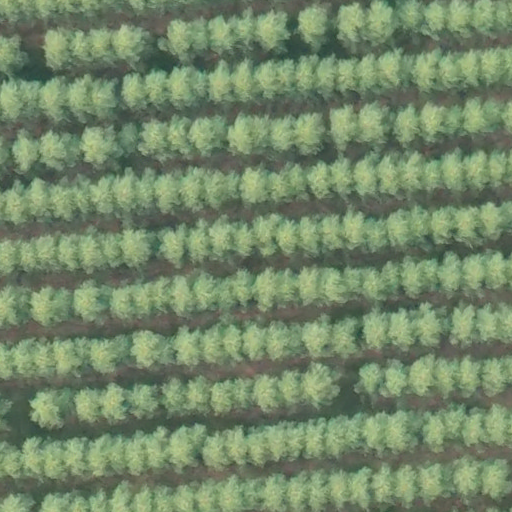eucalipto: (30, 383, 77, 434), (132, 324, 175, 378), (81, 123, 123, 169), (51, 332, 92, 379), (303, 360, 342, 409), (28, 282, 70, 327), (73, 277, 109, 327), (201, 164, 239, 211), (111, 21, 150, 66), (38, 128, 79, 170), (189, 112, 226, 158), (297, 1, 332, 48), (336, 1, 371, 48), (169, 427, 206, 471), (359, 99, 392, 148), (385, 409, 420, 455), (326, 101, 358, 151), (91, 333, 128, 376), (256, 9, 291, 54), (116, 68, 150, 114), (8, 123, 39, 173), (301, 315, 336, 359), (48, 175, 80, 223), (128, 379, 162, 423), (401, 253, 431, 302), (332, 316, 367, 358), (158, 224, 190, 269), (72, 383, 106, 425), (136, 118, 170, 160), (415, 302, 446, 348), (452, 454, 482, 501), (437, 146, 467, 193), (120, 226, 154, 267), (419, 463, 453, 504), (155, 166, 184, 214), (240, 318, 270, 364), (68, 77, 100, 120), (206, 56, 234, 105), (241, 163, 272, 207), (481, 458, 512, 502), (120, 429, 149, 476), (292, 109, 322, 154), (448, 301, 478, 346), (45, 26, 75, 71), (451, 204, 483, 246), (227, 111, 256, 157), (252, 211, 281, 257), (172, 271, 199, 320), (245, 423, 274, 468), (184, 371, 213, 416), (413, 51, 443, 94), (279, 418, 307, 464), (53, 229, 82, 273), (163, 18, 194, 59), (295, 211, 322, 258), (464, 149, 492, 194), (393, 100, 421, 145), (229, 7, 258, 50), (439, 251, 466, 297), (394, 461, 421, 507), (408, 353, 436, 397), (445, 1, 479, 37), (384, 352, 410, 399), (463, 404, 491, 447), (320, 263, 350, 303), (350, 464, 375, 512), (166, 114, 192, 160), (317, 211, 346, 252), (286, 471, 315, 512), (353, 359, 385, 396), (480, 358, 511, 396), (335, 53, 363, 95), (227, 264, 255, 306), (253, 371, 281, 413), (330, 154, 356, 199), (303, 415, 329, 460), (417, 101, 444, 144), (456, 355, 483, 398), (386, 208, 414, 249), (208, 215, 236, 256), (201, 325, 229, 366), (63, 434, 89, 478), (279, 367, 306, 409), (103, 381, 130, 423), (255, 267, 281, 310), (420, 1, 451, 37), (221, 424, 248, 465), (108, 283, 136, 322), (422, 409, 448, 451), (372, 461, 395, 508), (458, 46, 484, 87), (92, 76, 118, 117), (92, 171, 116, 215), (118, 166, 140, 214), (346, 410, 370, 454), (19, 435, 43, 479), (461, 99, 489, 136), (367, 1, 394, 39), (219, 474, 246, 512), (274, 58, 301, 96), (378, 152, 401, 196), (308, 161, 333, 201), (378, 256, 402, 297), (207, 15, 232, 54), (110, 479, 136, 512), (210, 376, 234, 411)
